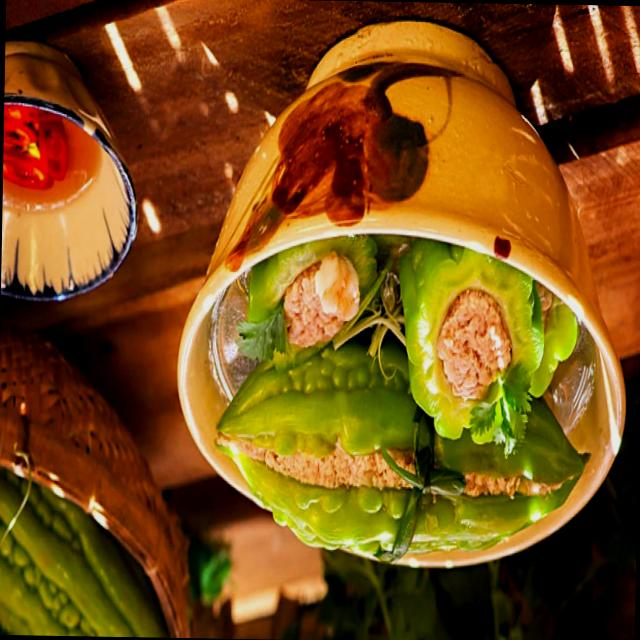kho qua: (216, 342, 589, 561), (398, 239, 568, 454), (246, 235, 376, 347)
